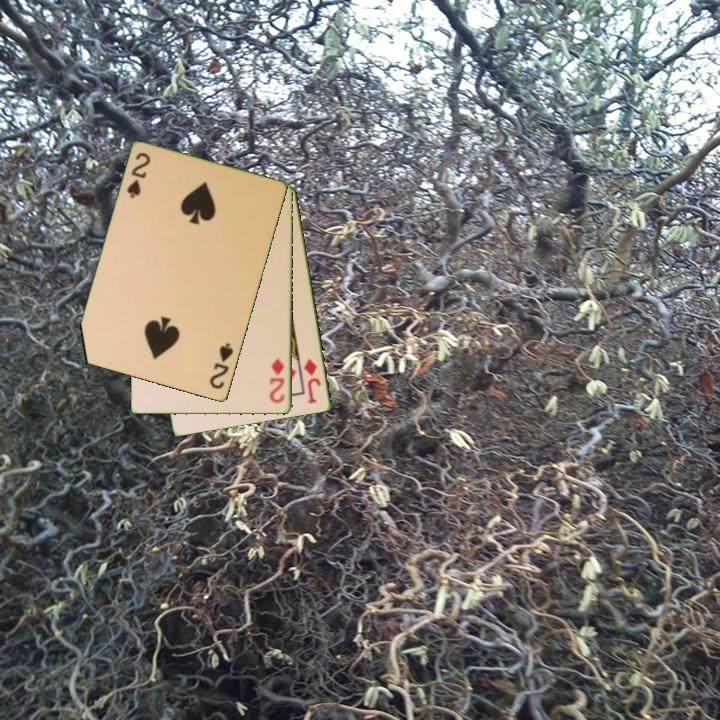2d: (267, 354, 288, 406)
2s: (123, 149, 153, 202), (206, 340, 236, 392)
Jd: (300, 355, 324, 407)
